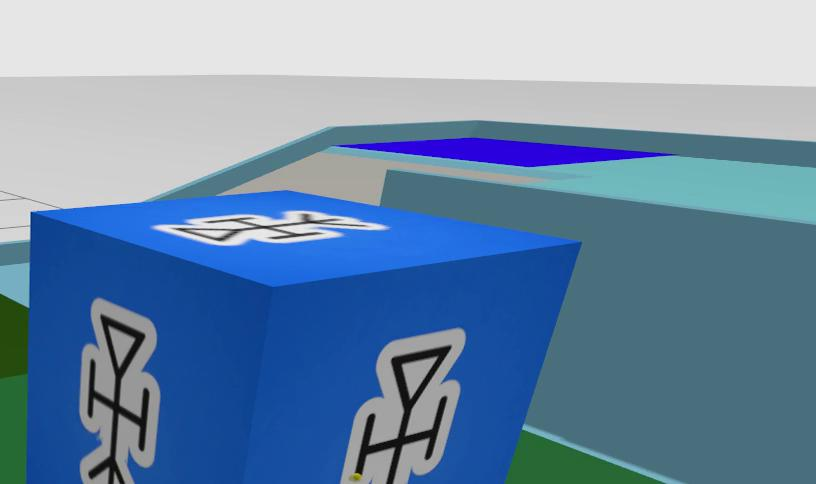KFS_REAL: (25, 191, 579, 484), (339, 329, 465, 484), (78, 298, 159, 484), (153, 210, 388, 245)
